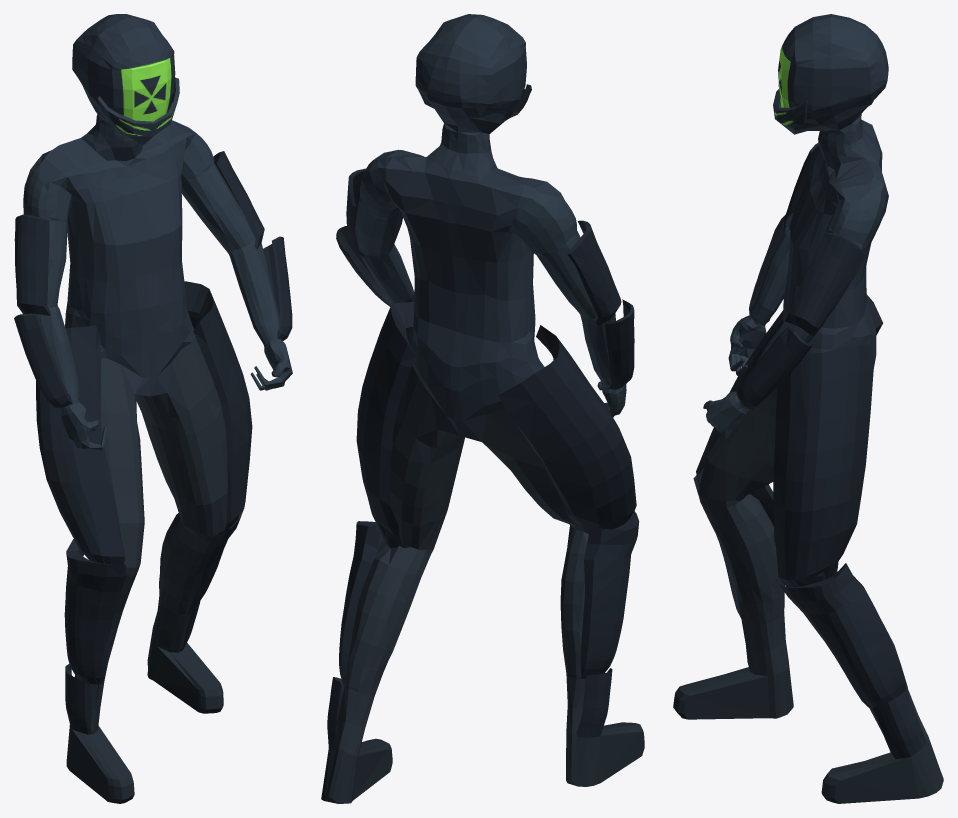
File: Bastion_Stun_Recover_000018.obj
The picture shows the model from 3 angles, left to right: view 1: azimuth 30°, elevation 25°; view 2: azimuth 150°, elevation 25°; view 3: azimuth 270°, elevation 25°; orthographic projection. The views are drawn at different scales.
Visible parts, largest first — view 1: Cube.002; view 2: Cube.002; view 3: Cube.002.
Part boxes in pixels (x1=…): Cube.002: x1=14, y1=14, x2=292, y2=803; Cube.002: x1=321, y1=14, x2=644, y2=803; Cube.002: x1=673, y1=14, x2=943, y2=803.
Size of the model in its own units: 1.49 by 3.76 by 1.25.
